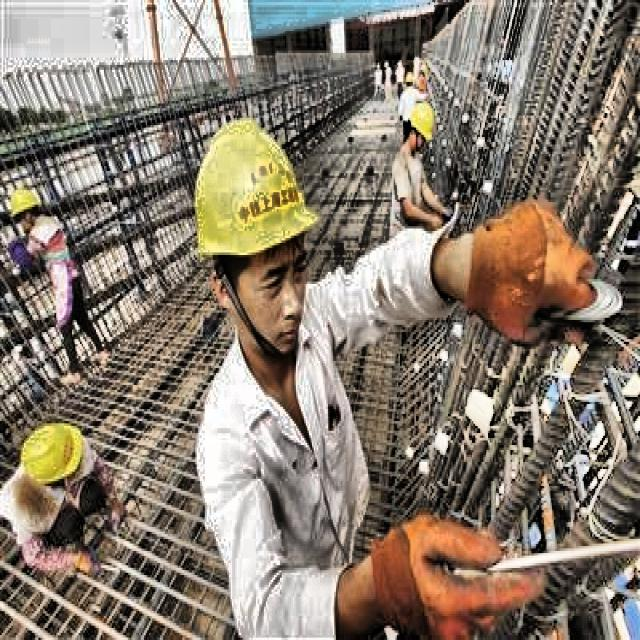helmet: (182, 99, 326, 368), (10, 418, 94, 501), (400, 89, 437, 166), (8, 183, 42, 238)
